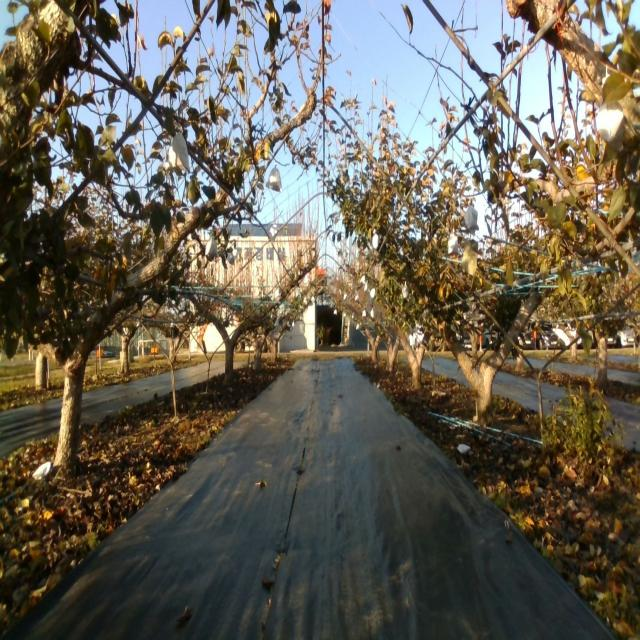pearbags: (595, 97, 623, 146), (164, 131, 192, 174), (266, 165, 282, 192), (465, 206, 478, 236), (205, 235, 219, 258), (448, 232, 458, 254), (267, 223, 278, 242)
